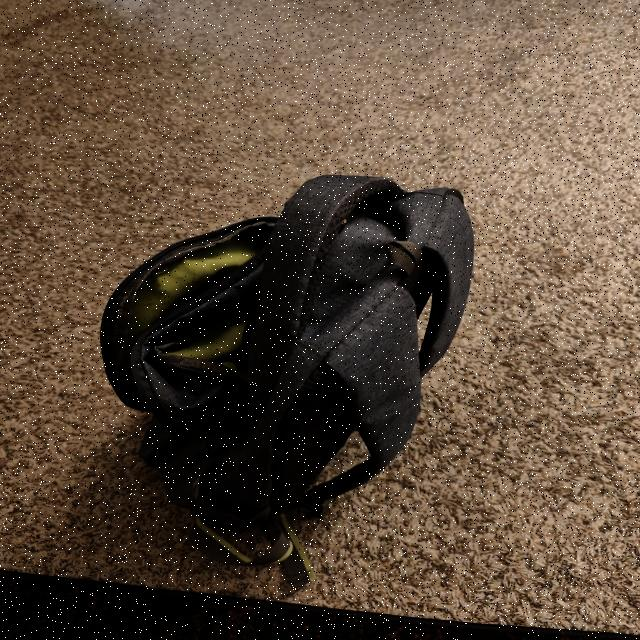bag: (94, 181, 461, 541)
